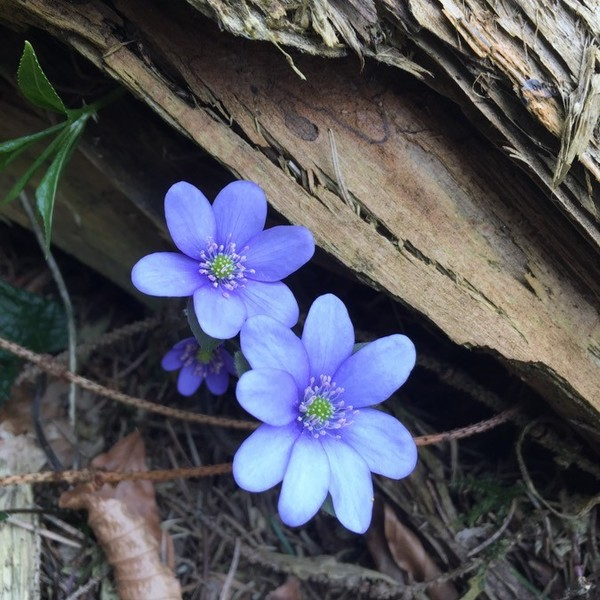obstacle: (118, 161, 441, 547), (230, 292, 422, 537), (145, 168, 291, 330), (151, 315, 233, 396)
